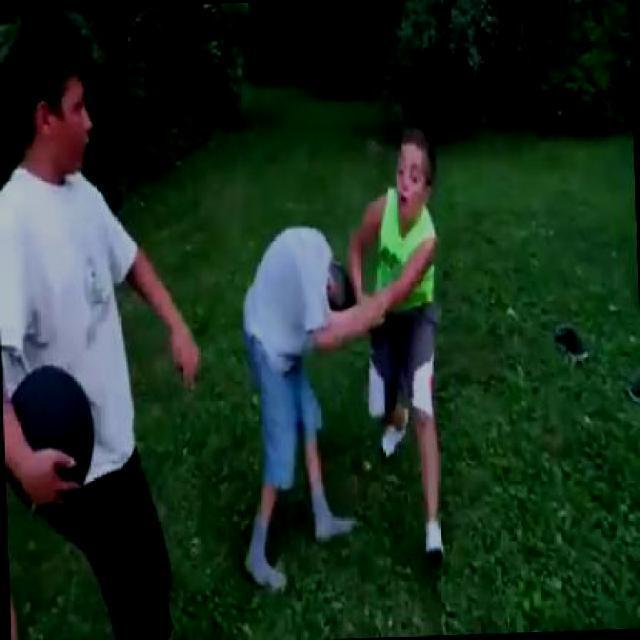fight: (235, 123, 448, 579)
non-fight: (0, 4, 209, 638)
